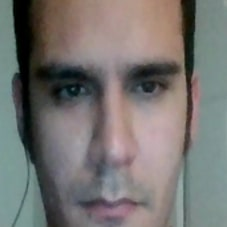awake: (34, 53, 184, 227)
